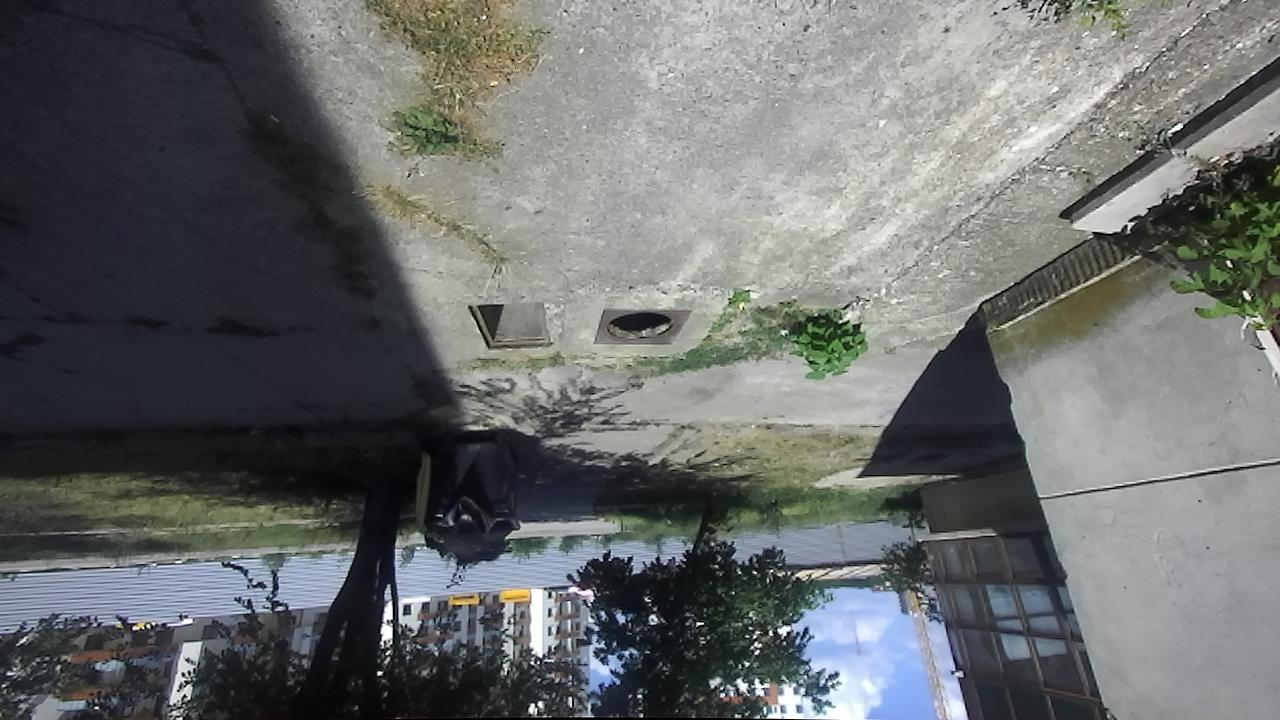drain: (463, 299, 556, 350), (601, 311, 678, 345)
